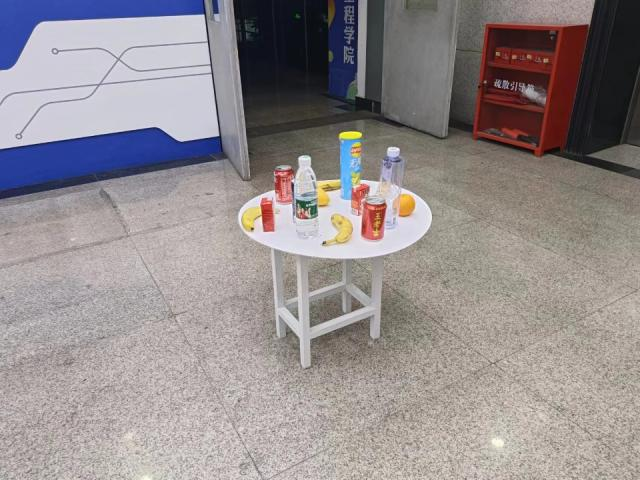Canned_drinks: (361, 196, 387, 242), (273, 164, 295, 204)
bottle: (293, 154, 320, 241), (379, 146, 405, 232)
cylinder: (338, 130, 363, 201)
drink_box: (350, 183, 370, 216), (260, 196, 277, 233)
